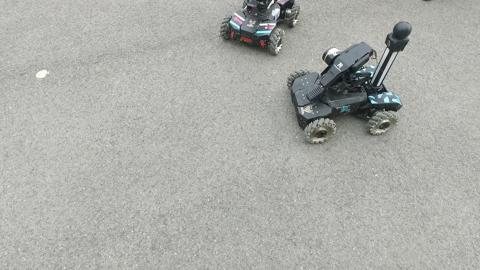chariot: (286, 18, 412, 145), (220, 1, 303, 60)
